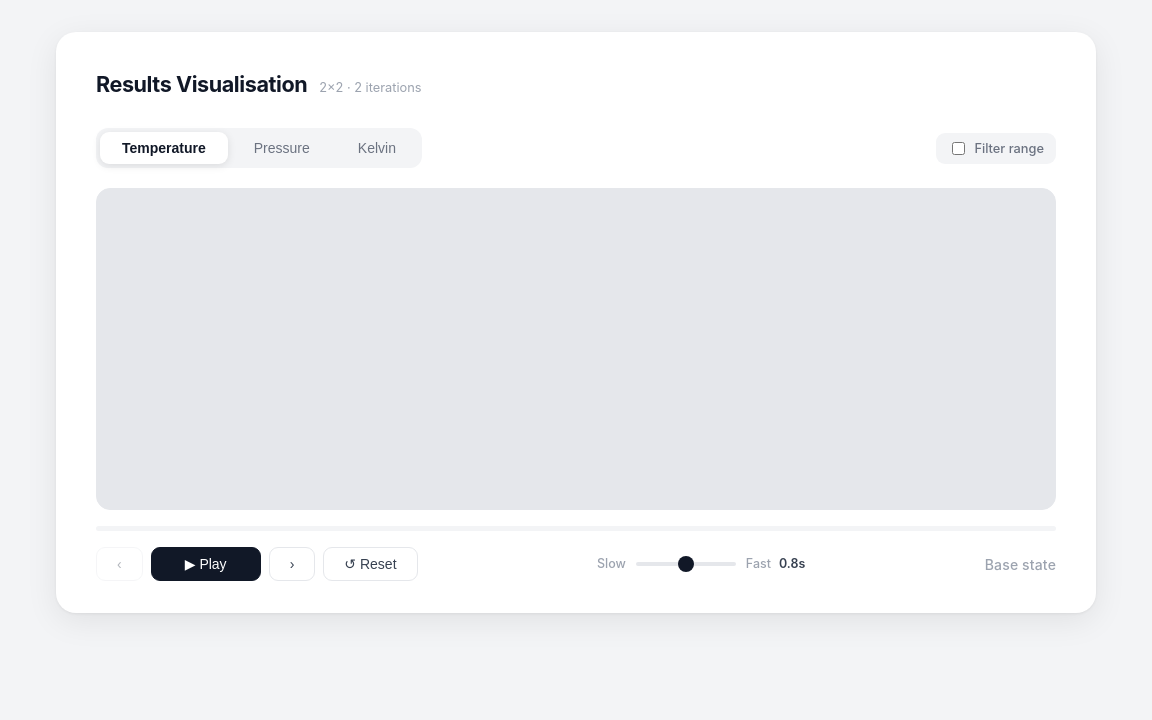
it: ResultsVisualization — loaded state › checking filter shows the min/max sliders
Click the checkbox: {"x": 959, "y": 148} [952,142,965,155]
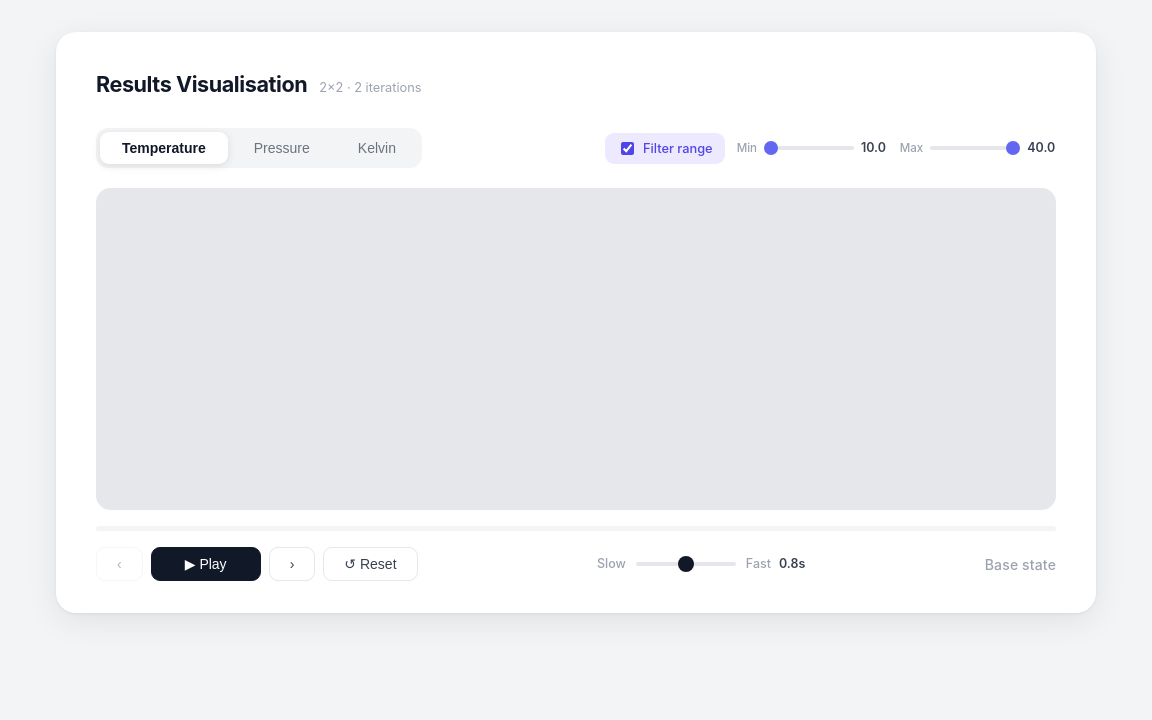
Now the slider labelled "Min" is shown, box [764,146,854,150]
Now the slider labelled "Max" is shown, box [930,146,1020,150]
